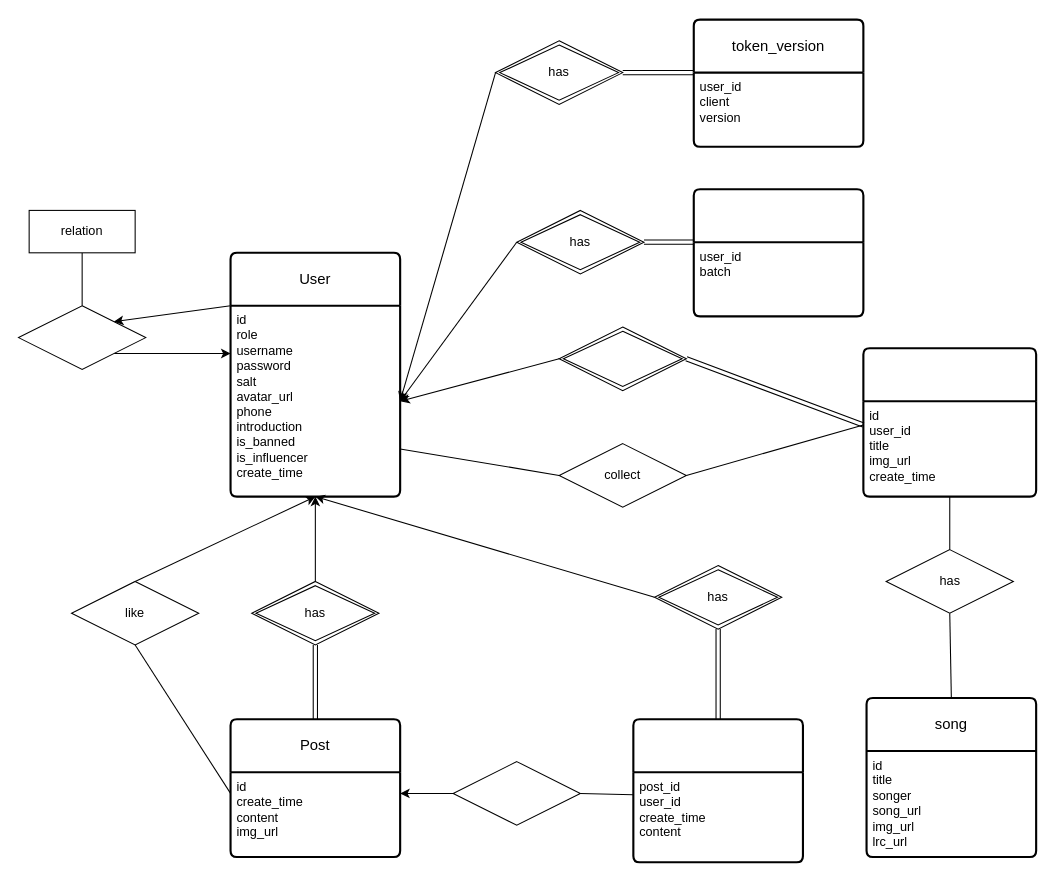
Image size: 1056x881. Some labels were removed from this diagram. The box of each missing label's shape, as (x1, y1, x2, y2) in pixels:
belong: (452, 761, 580, 825)
comment: (632, 718, 803, 863)
own: (558, 326, 686, 391)
relationship: (17, 305, 146, 369)
sheet: (862, 347, 1037, 497)
token_batch: (692, 188, 864, 317)
